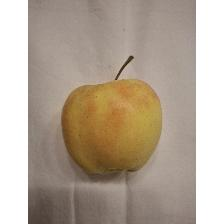Apfel: (60, 54, 164, 176)
